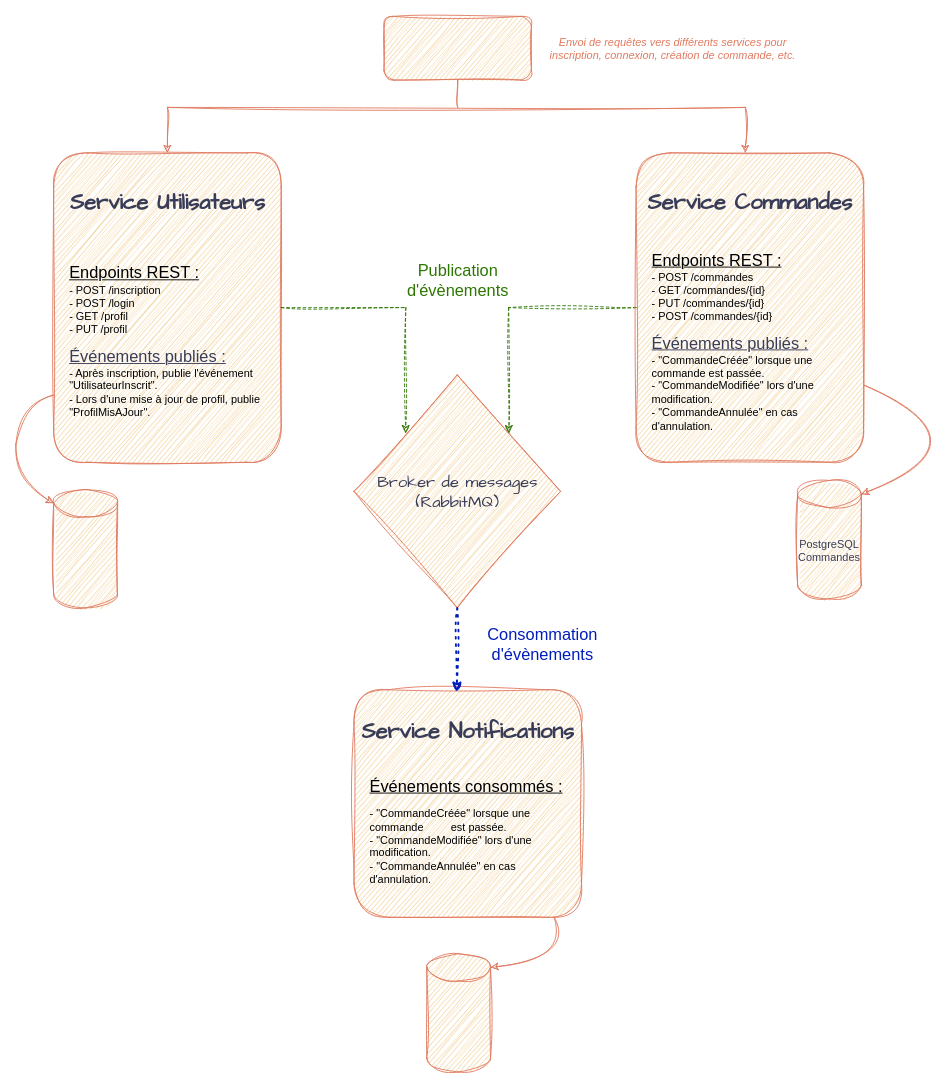
This 948x1087 diagram has some shape labels left out. Each missing label, with the centre of its shape:
"API Gateway" goes at (x=457, y=47).
"PostgreSQL Notifications" goes at (x=458, y=1012).
"PostgreSQL Utilisateurs" goes at (x=85, y=548).
